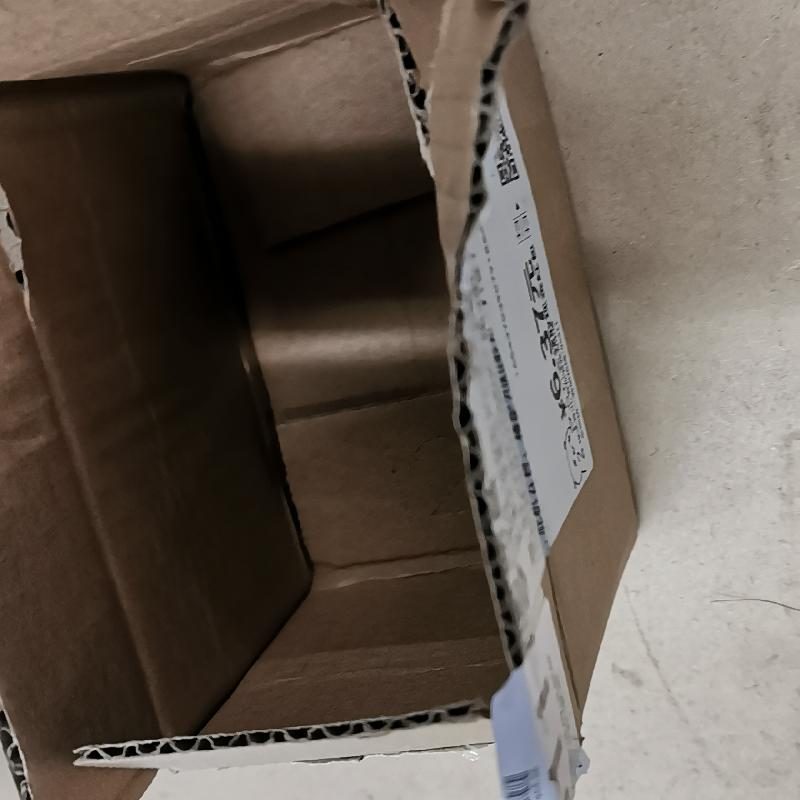boxes: (0, 4, 662, 799)
